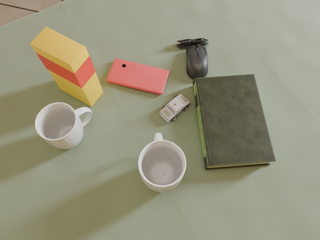book: (193, 74, 276, 170)
box: (30, 27, 103, 107)
cup: (138, 133, 186, 192), (35, 103, 92, 149)
mouse: (176, 38, 208, 79)
phone: (107, 58, 169, 95)
toy_car: (159, 94, 191, 123)
